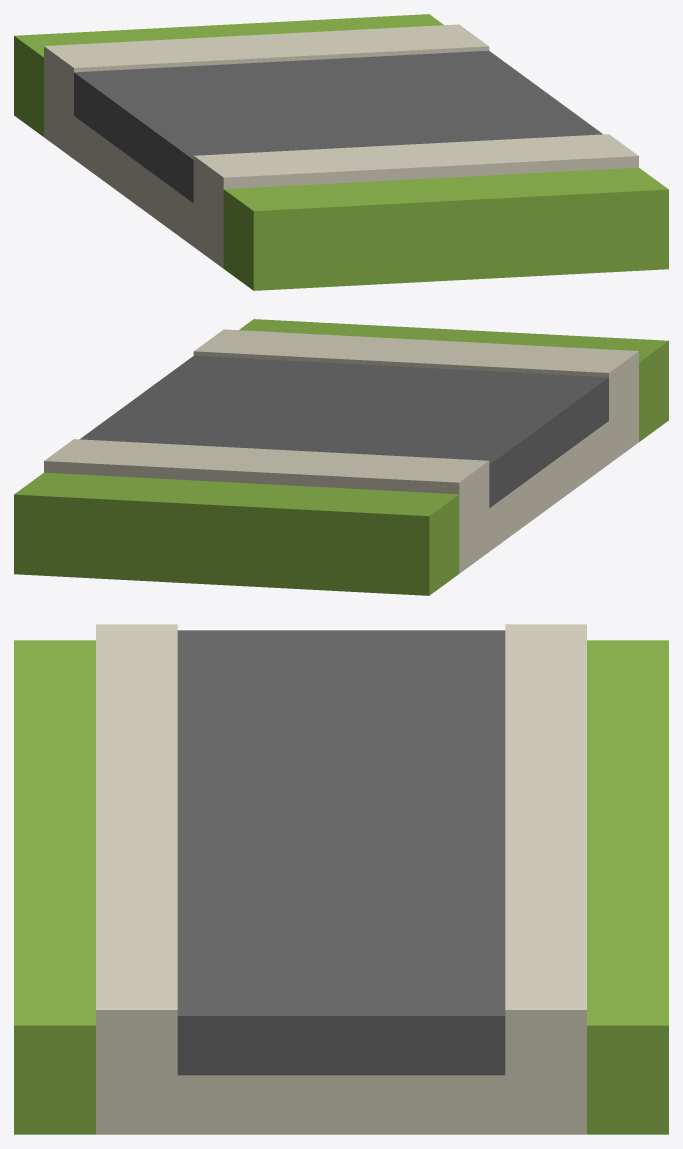
The model's file is roadTile_183.fbx.
The picture shows the model from 3 angles, top to bottom: view 1: azimuth 30°, elevation 25°; view 2: azimuth 150°, elevation 25°; view 3: azimuth 270°, elevation 25°; orthographic projection. The views are drawn at different scales.
Parts seen in each view (by area): view 1: roadTile_183; view 2: roadTile_183; view 3: roadTile_183.
Part boxes in pixels (box(x1,y1,x2,y2)): roadTile_183: box(14, 14, 668, 290); roadTile_183: box(14, 319, 668, 595); roadTile_183: box(14, 624, 668, 1134).
Size of the model in its own units: 118 by 46.46 by 118.
